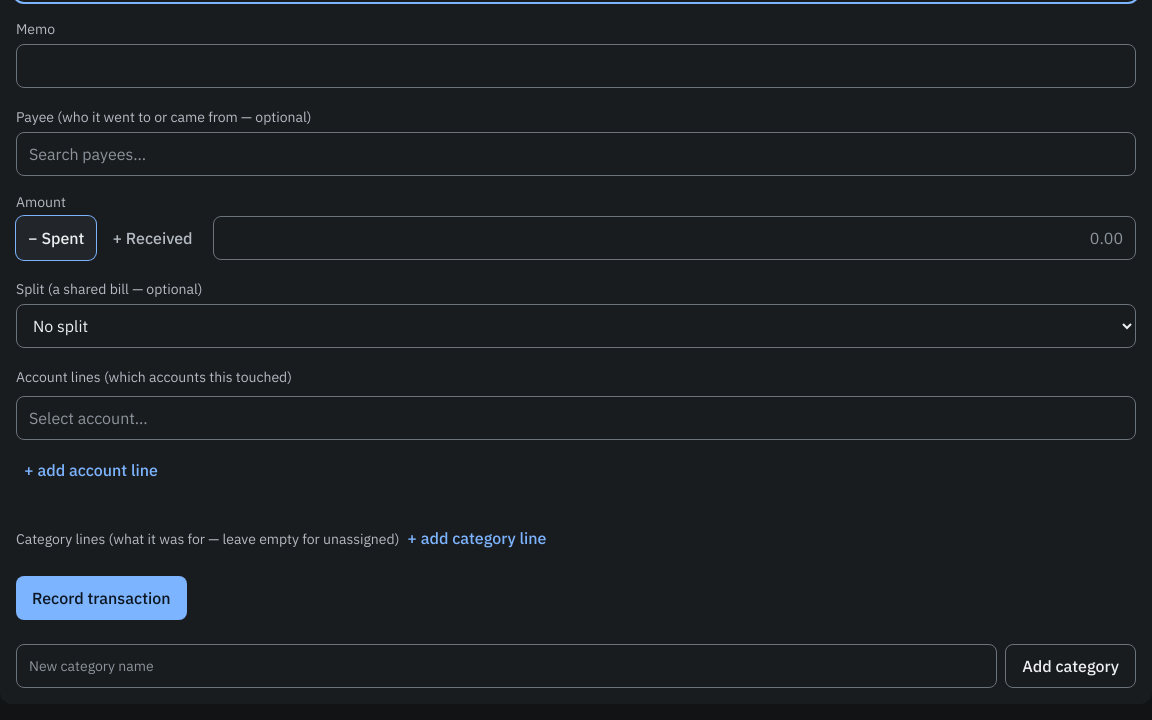
Test: Ledger form: which bill and due date a payment paid › offers the bill with its earliest unpaid due date, and Confirm links that date
(page scrolled)
Click the button "+ add category line" at (477, 538), box [399,516,554,560]
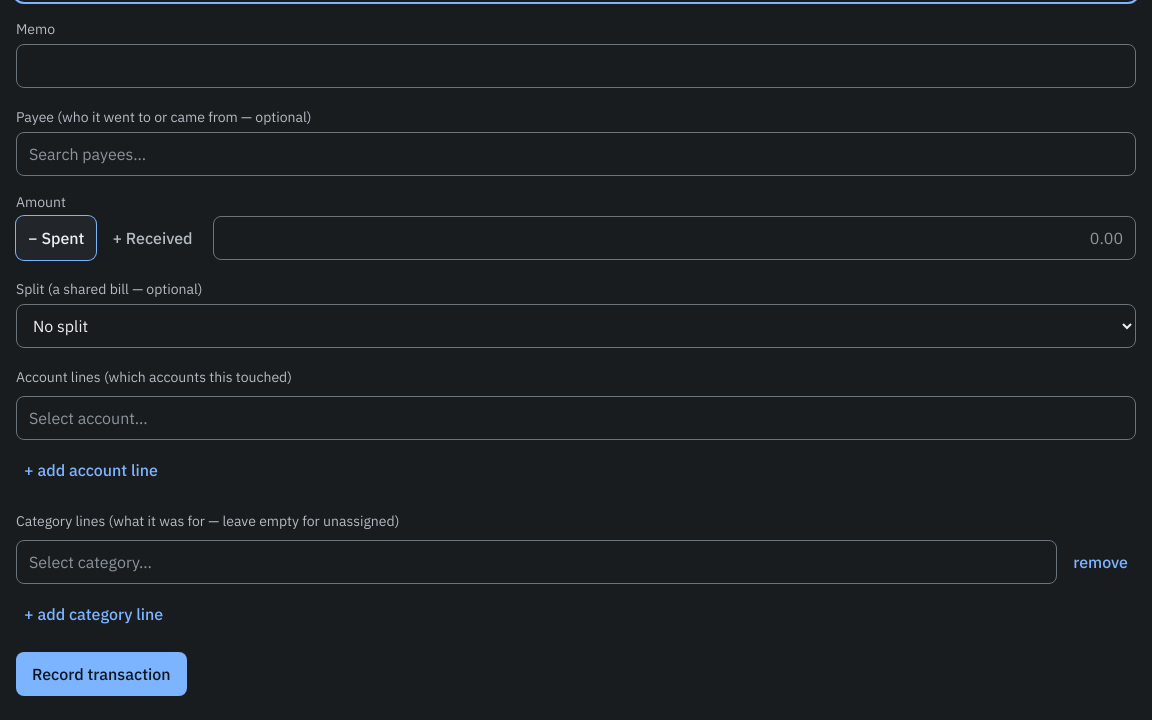
Type "Rent" into the field labelled "category" at (537, 562), box [16,540,1057,584]
(page scrolled)
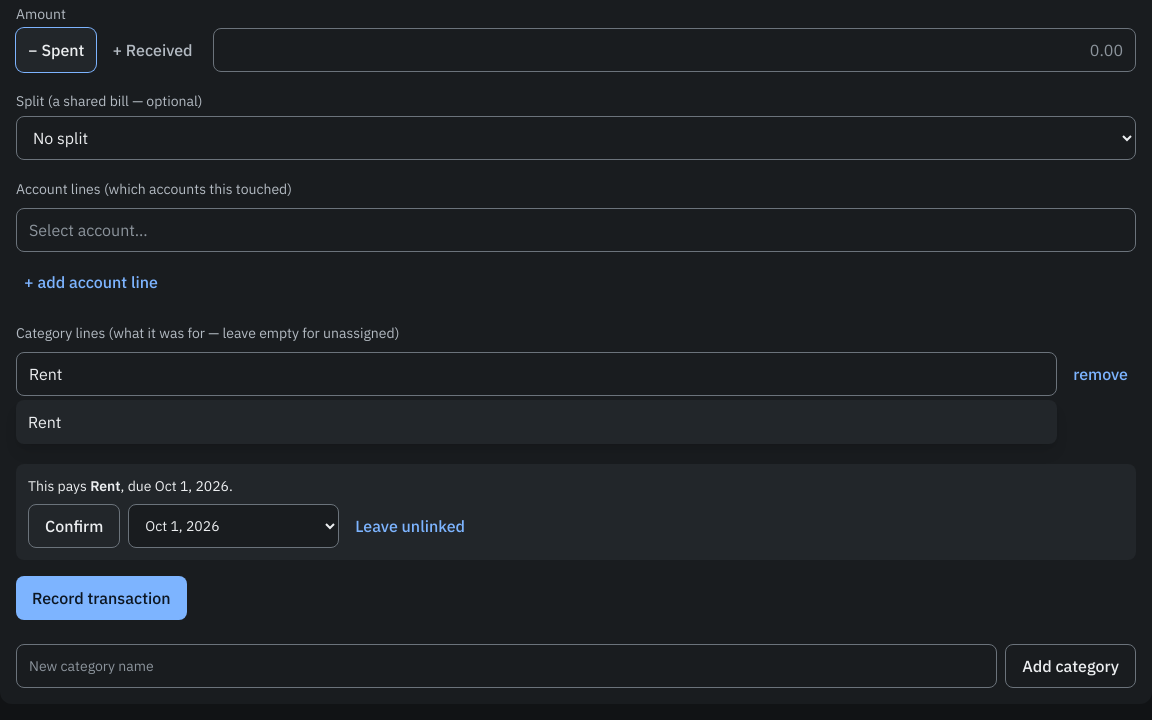
Expected: the text "This pays Rent, due Oct 1, 2026." is shown, [28,477,233,495]
Expected: the button "Confirm" is enabled
Click the button "Confirm" at (74, 526), box [28,504,120,548]
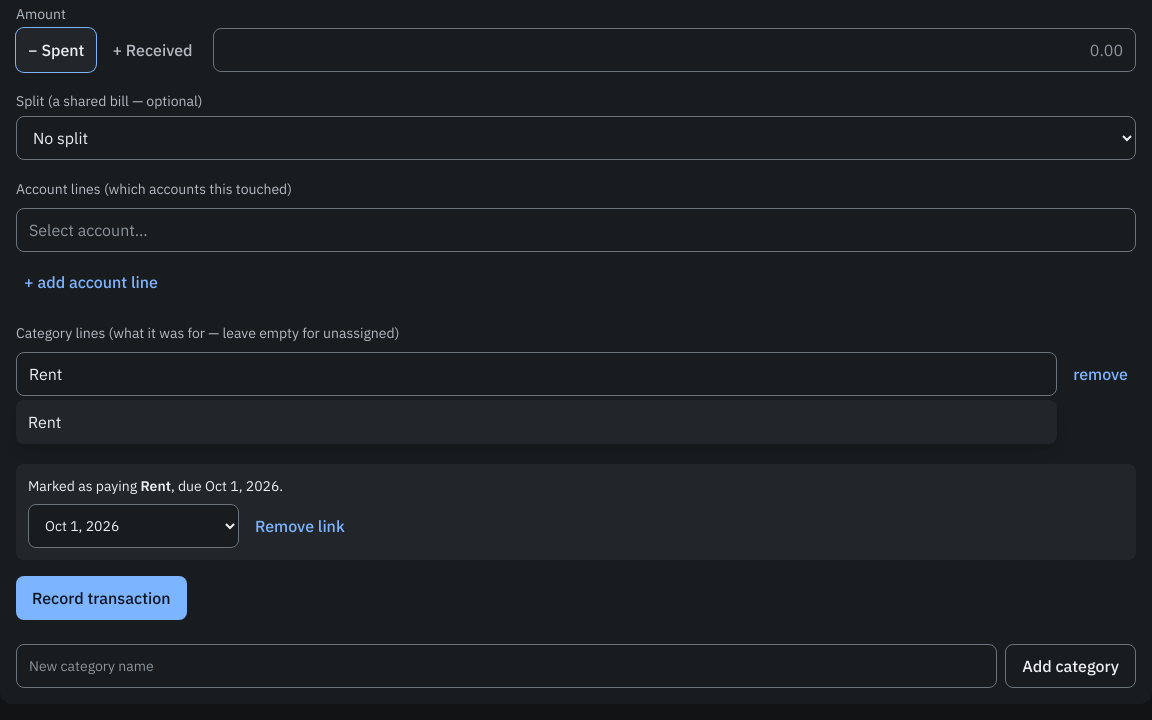
Expected: the text "Marked as paying Rent, due Oct 1, 2026." is shown, [28,477,283,495]
Expected: the button "Confirm" is gone
